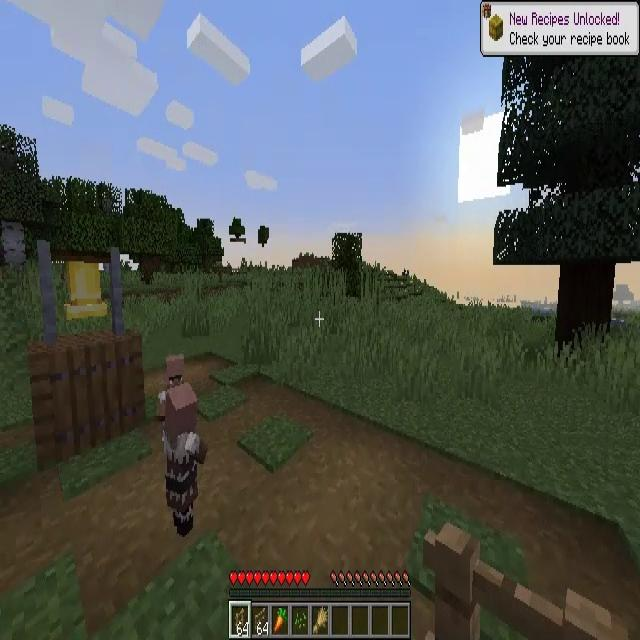people: (165, 382, 208, 535), (158, 354, 185, 442)
